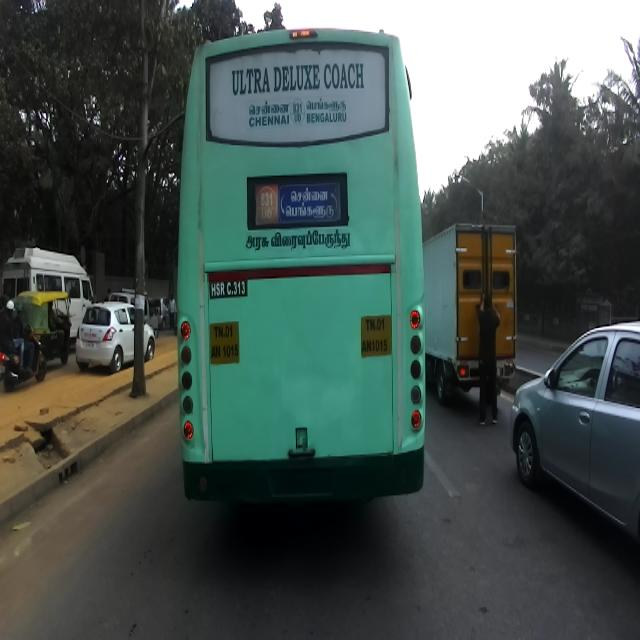bus ahead at: (178, 36, 430, 506)
car ahead at: (515, 313, 640, 562)
tree ahead at: (130, 84, 157, 414)
